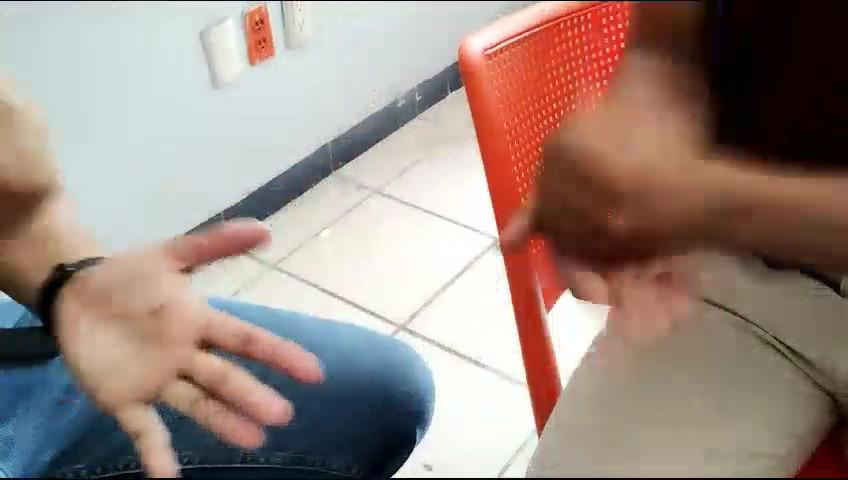Paper: (50, 192, 353, 480)
Stone: (531, 98, 716, 279)
